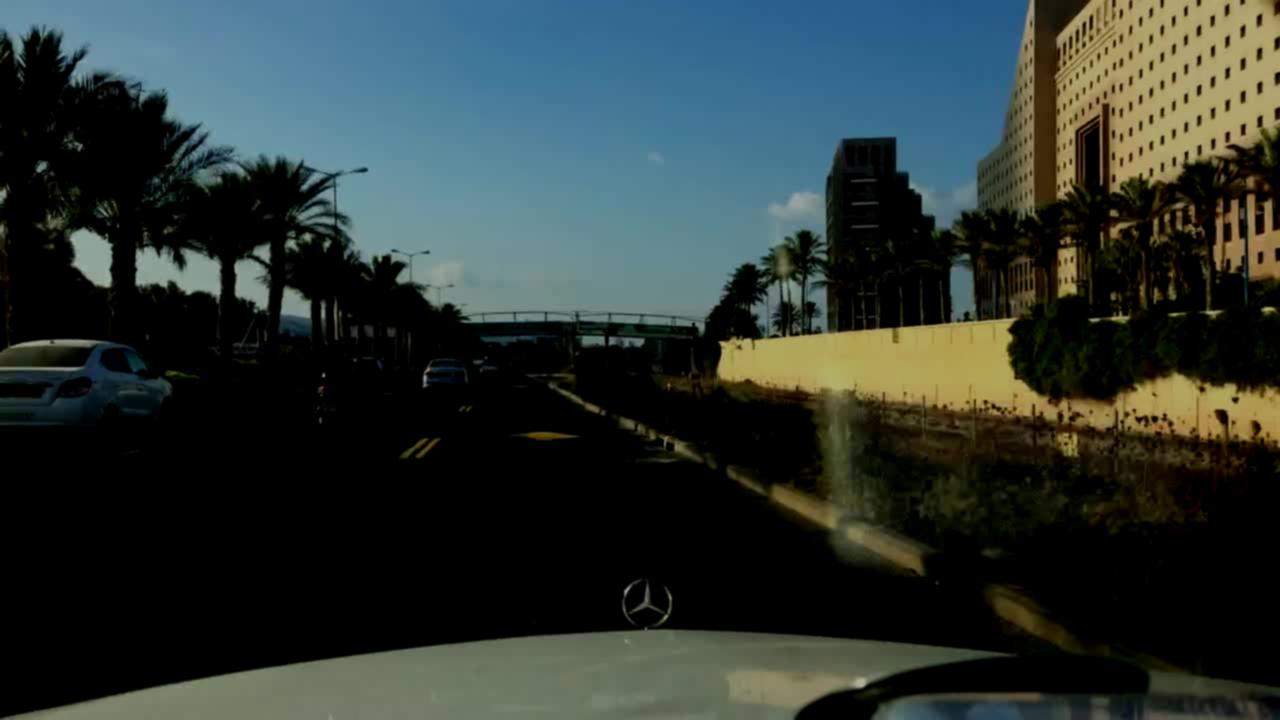Mercedes: (600, 553, 691, 649)
